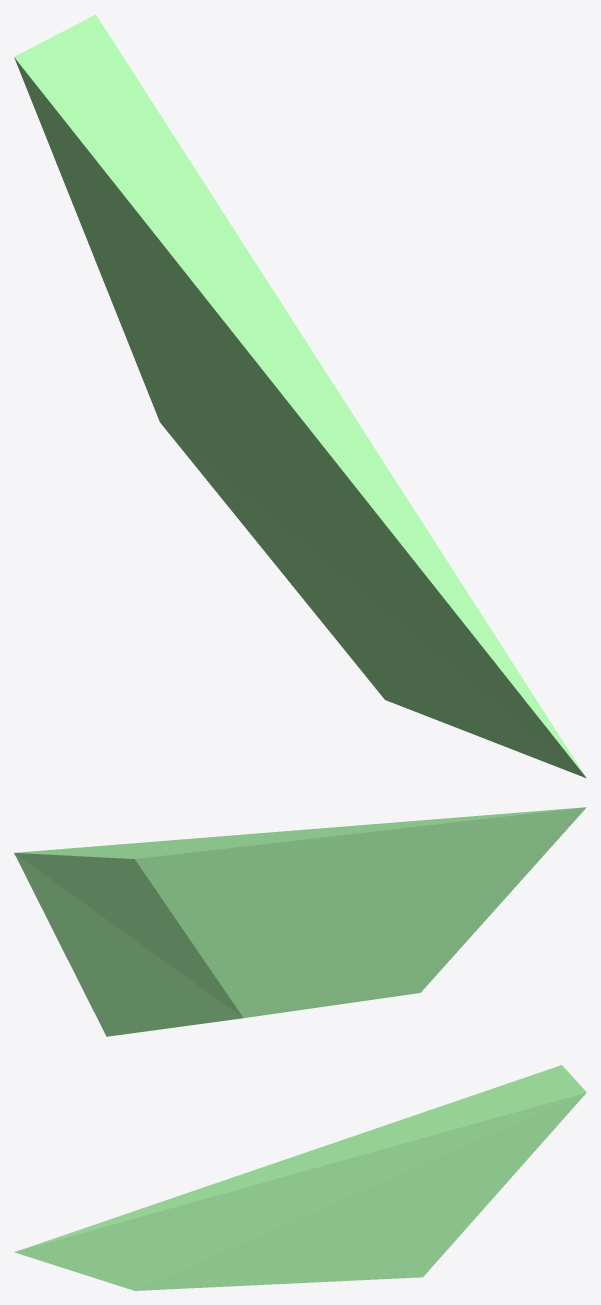
File: linkhou_LR4_R560_link4_respondable_coll_8.dae
The picture shows the model from 3 angles, top to bottom: view 1: azimuth 30°, elevation 25°; view 2: azimuth 150°, elevation 25°; view 3: azimuth 270°, elevation 25°; orthographic projection. The views are drawn at different scales.
Visible parts, largest first — view 1: Node_00000209DB3AB9C0; view 2: Node_00000209DB3AB9C0; view 3: Node_00000209DB3AB9C0.
Boxes of the visible parts, bbox=[...] form: Node_00000209DB3AB9C0: bbox=[14, 14, 586, 778]; Node_00000209DB3AB9C0: bbox=[14, 807, 586, 1036]; Node_00000209DB3AB9C0: bbox=[14, 1065, 586, 1290].
Size of the model in its own units: 0.00829 by 0.0193 by 0.0483.
